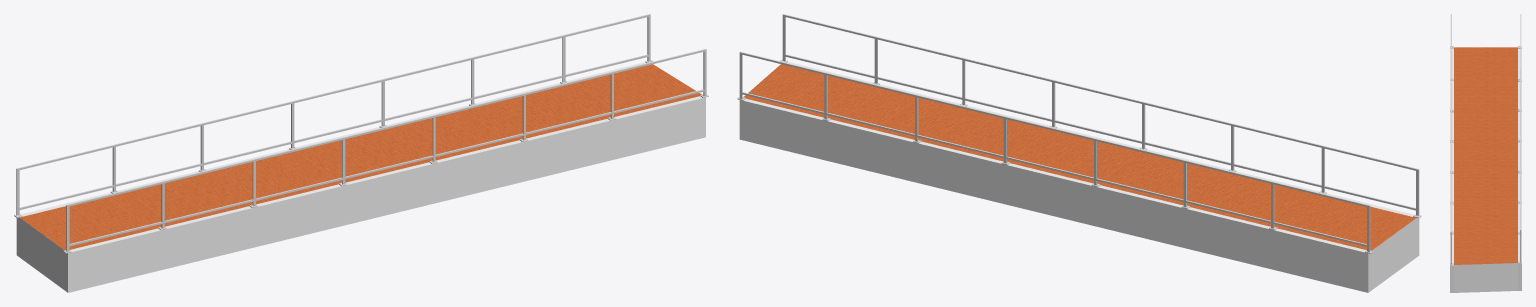
File: imp_2_floor_hall_sized.glb
3 views of the same model, side by side, from view 1: azimuth 30°, elevation 25°; view 2: azimuth 150°, elevation 25°; view 3: azimuth 270°, elevation 25° (orthographic). The views are drawn at different scales.
Parts seen in each view (by area): view 1: Cube_072, Cube_102; view 2: Cube_072, Cube_102; view 3: Cube_072, Cube_102.
Boxes of the visible parts, bbox=[...] form: Cube_072: bbox=[16, 62, 705, 292]; Cube_102: bbox=[14, 14, 708, 253]; Cube_072: bbox=[739, 62, 1419, 292]; Cube_102: bbox=[737, 14, 1421, 253]; Cube_072: bbox=[1450, 47, 1521, 292]; Cube_102: bbox=[1450, 14, 1521, 265].
Size of what is drawn, in the model's own units: 15.17 by 1.97 by 2.1.
Materials: 4 (2 with a texture image).
